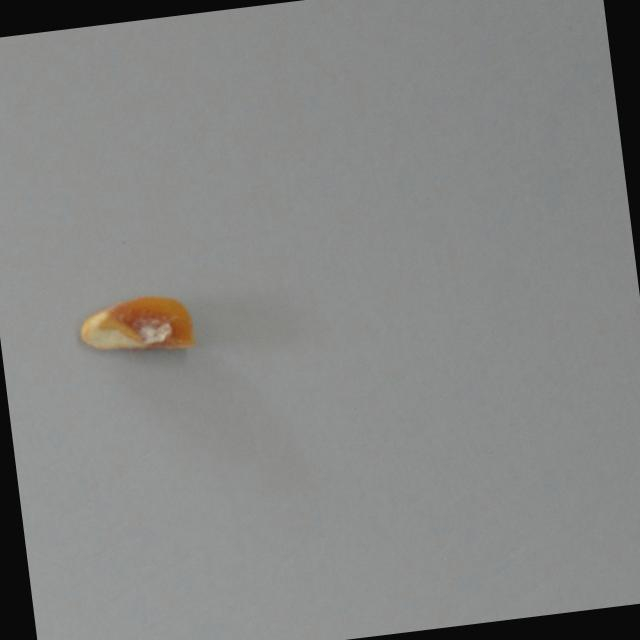dañado: (74, 285, 200, 367)
